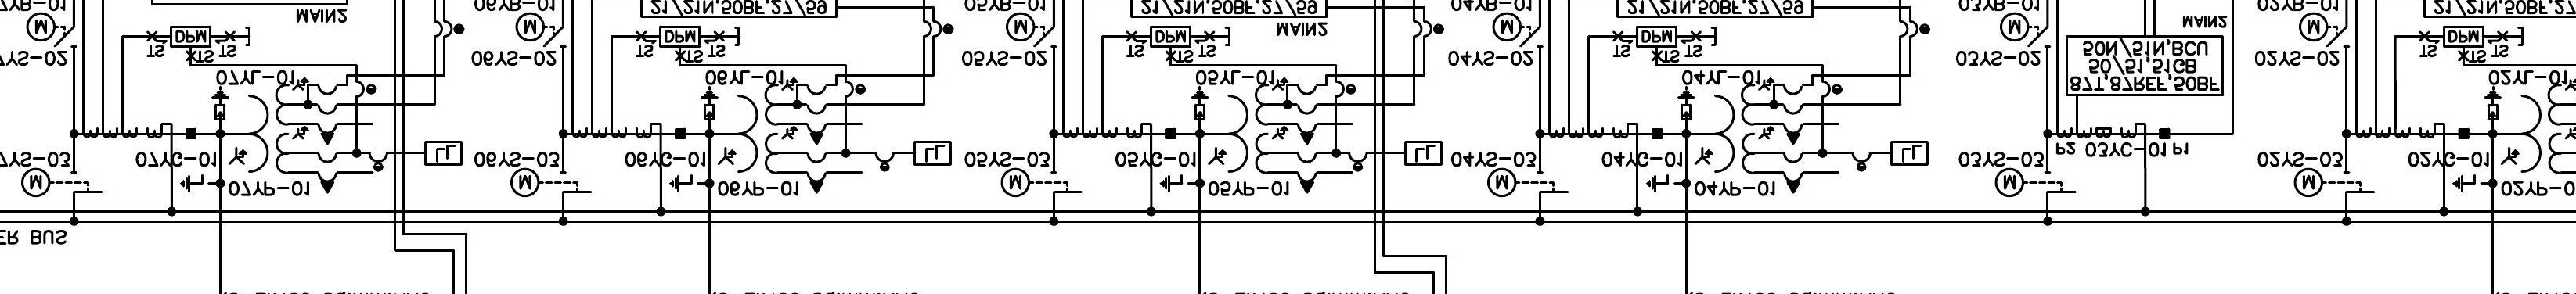115_1way_ds_w_motor: (509, 166, 593, 197), (999, 166, 1083, 197), (1485, 166, 1569, 197), (20, 168, 104, 197), (2292, 168, 2376, 197), (1994, 168, 2077, 197), (25, 11, 79, 49), (1004, 11, 1058, 48), (1999, 11, 2052, 48), (514, 11, 567, 48), (1492, 11, 1544, 48), (2298, 11, 2351, 48)
115_gs: (179, 174, 212, 194), (1158, 174, 1191, 194), (1645, 174, 1677, 194), (2451, 174, 2484, 194), (669, 174, 700, 194)
115_la: (210, 85, 230, 122), (700, 85, 720, 122), (2482, 85, 2502, 122), (1189, 85, 1209, 120), (1676, 85, 1695, 120)
115_vt_3p: (716, 77, 828, 194), (228, 77, 338, 194), (1208, 77, 1318, 194), (1694, 77, 1804, 194)
DPM: (169, 25, 212, 48), (659, 25, 702, 48), (1148, 25, 1191, 48), (1635, 25, 1677, 48), (2441, 26, 2484, 48)
LL: (424, 140, 463, 166), (913, 140, 953, 166), (1403, 140, 1442, 166), (1889, 140, 1929, 166)
